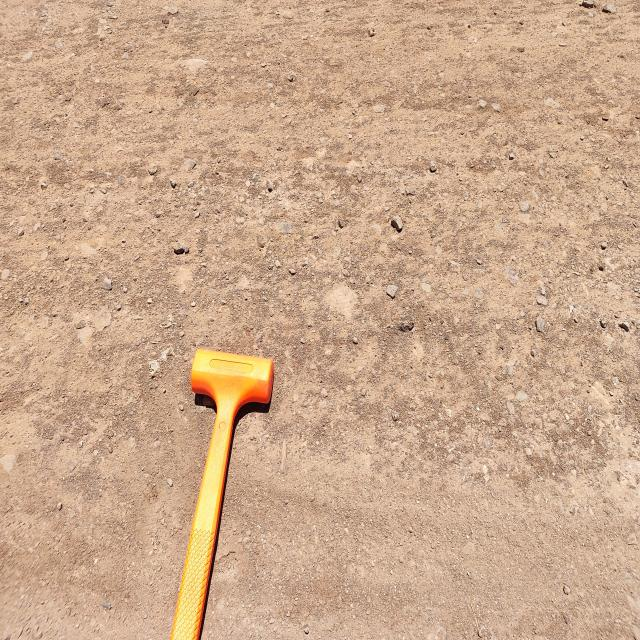Orange_hammer: (169, 347, 275, 639)
